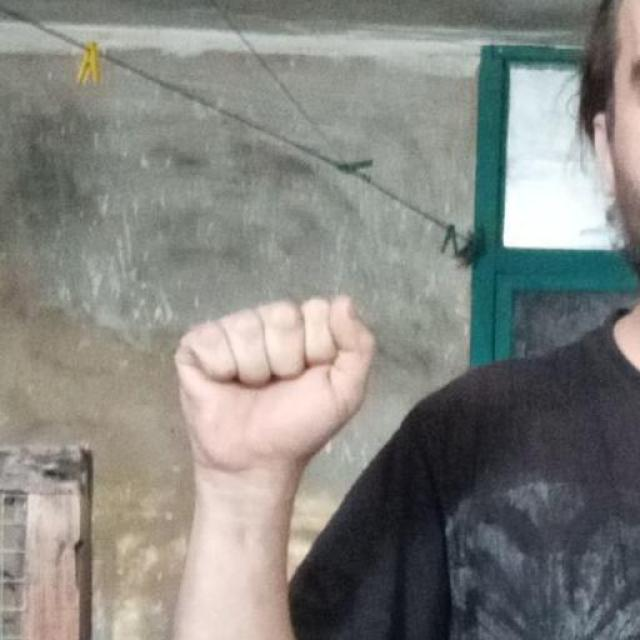hand: (172, 291, 376, 475)
